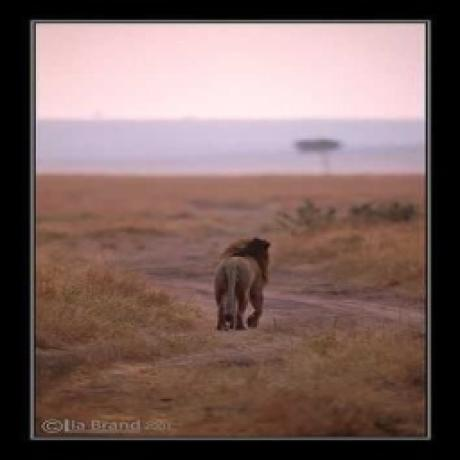Lion: (213, 234, 273, 330)
